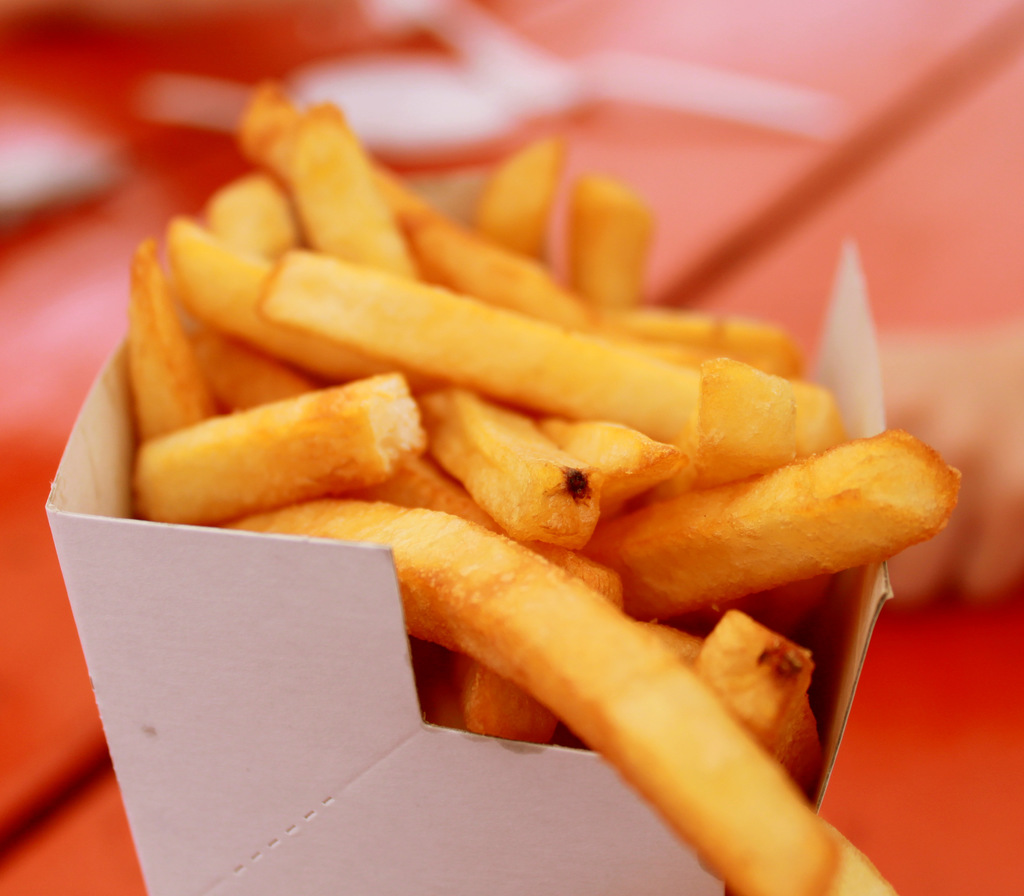French fries: (119, 70, 963, 895)
